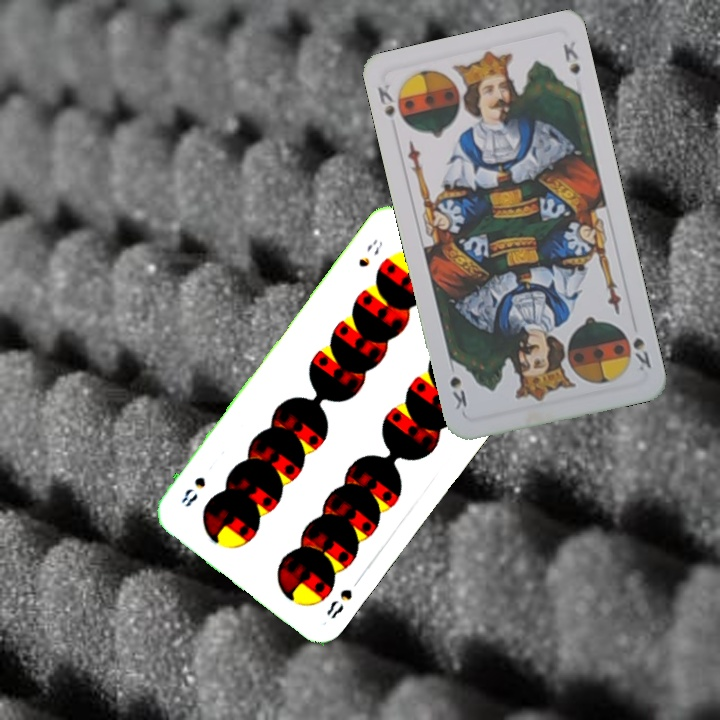S8: (322, 584, 356, 621), (354, 235, 386, 270)
SK: (373, 80, 409, 136), (628, 333, 654, 374)
